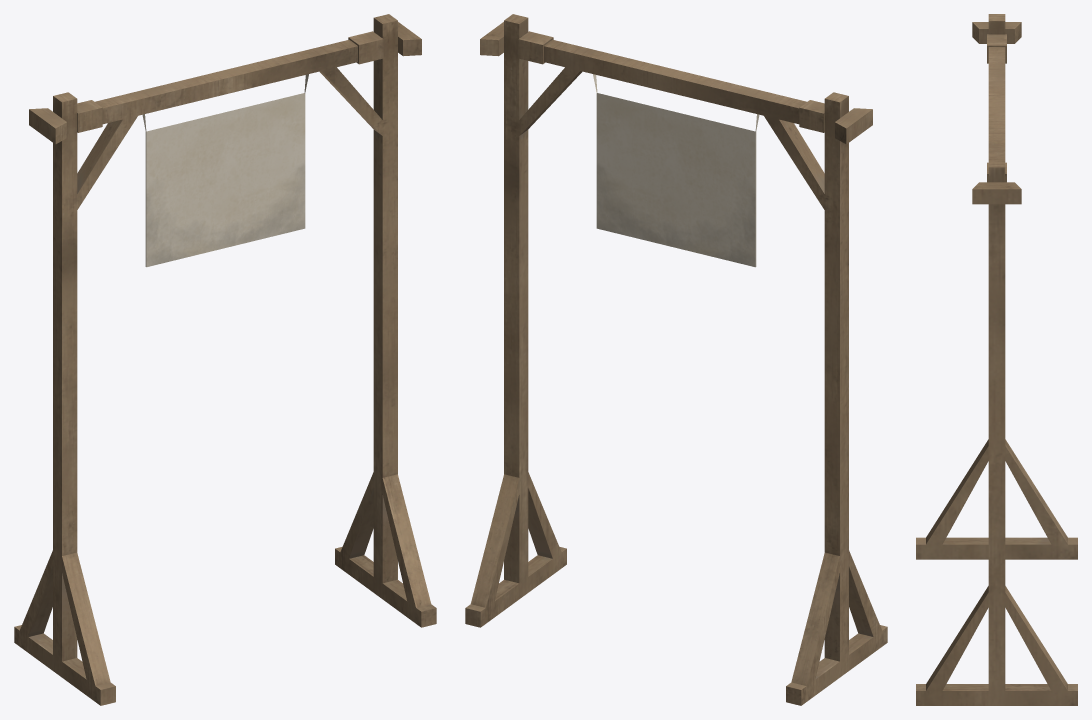
The model's file is Pillar.fbx.
3 views of the same model, side by side, from view 1: azimuth 30°, elevation 25°; view 2: azimuth 150°, elevation 25°; view 3: azimuth 270°, elevation 25° (orthographic). The views are drawn at different scales.
Parts seen in each view (by area): view 1: pillar; view 2: pillar; view 3: pillar.
Part boxes in pixels (x1,y1,x2,y2): pillar: [14, 14, 436, 705]; pillar: [465, 14, 887, 705]; pillar: [916, 14, 1077, 705].
Size of the model in its own units: 120 by 180 by 49.
